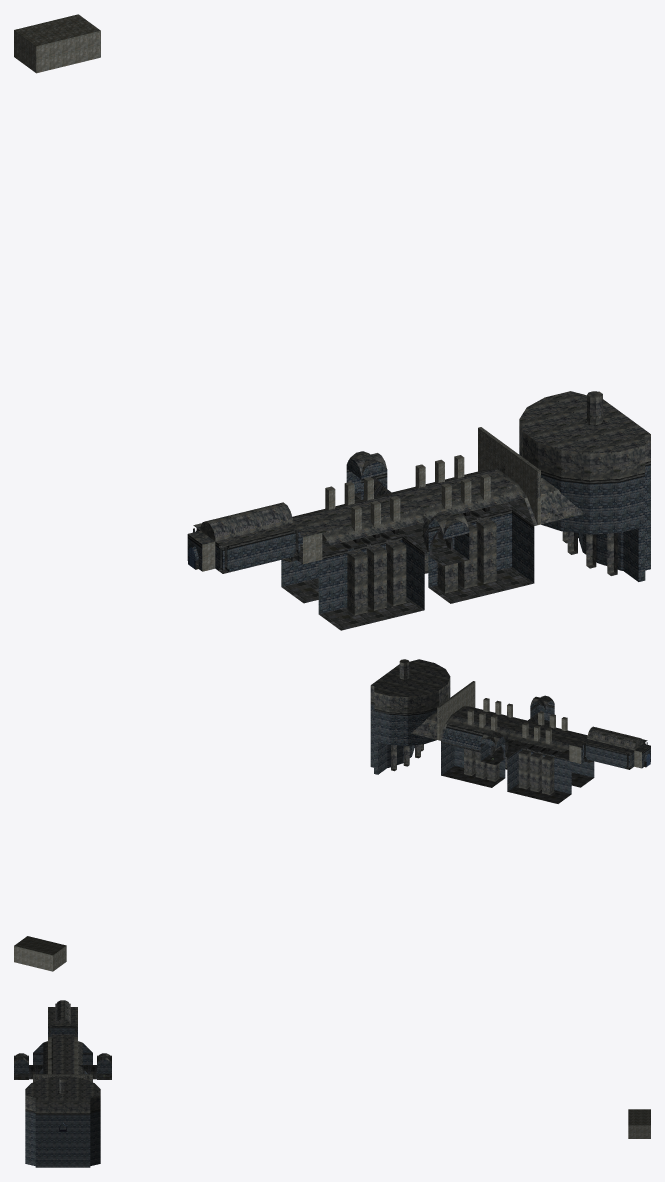
File: Adv12Chamber.obj
3 views of the same model, one above another, from view 1: azimuth 30°, elevation 25°; view 2: azimuth 150°, elevation 25°; view 3: azimuth 270°, elevation 25° (orthographic). The views are drawn at different scales.
Parts seen in each view (by area): view 1: Group8, Group11, Group10, Group6, Group9, Group14; view 2: Group8, Group11, Group6, Group10, Group9, Group14; view 3: Group8, Group11, Group6, Group10, Group12, Group14, Group9.
Boxes of the visible parts, x1,y1,x2,y2 form: Group8: [188, 391, 650, 615]; Group11: [281, 459, 650, 613]; Group10: [14, 30, 540, 571]; Group6: [187, 447, 650, 572]; Group9: [194, 492, 534, 630]; Group14: [14, 14, 299, 561]; Group8: [370, 659, 650, 794]; Group11: [370, 700, 594, 794]; Group6: [370, 693, 650, 768]; Group10: [14, 681, 641, 971]; Group9: [441, 720, 646, 803]; Group14: [14, 742, 647, 955]; Group8: [14, 1000, 111, 1113]; Group11: [14, 1054, 111, 1167]; Group6: [14, 1026, 111, 1126]; Group10: [14, 1037, 650, 1138]; Group12: [29, 1065, 96, 1081]; Group14: [628, 1109, 650, 1125]; Group9: [14, 1026, 111, 1079].
Bounding box in the file's own units: 4640 × 1536 × 10816.
Materials: 24 (24 with a texture image).
